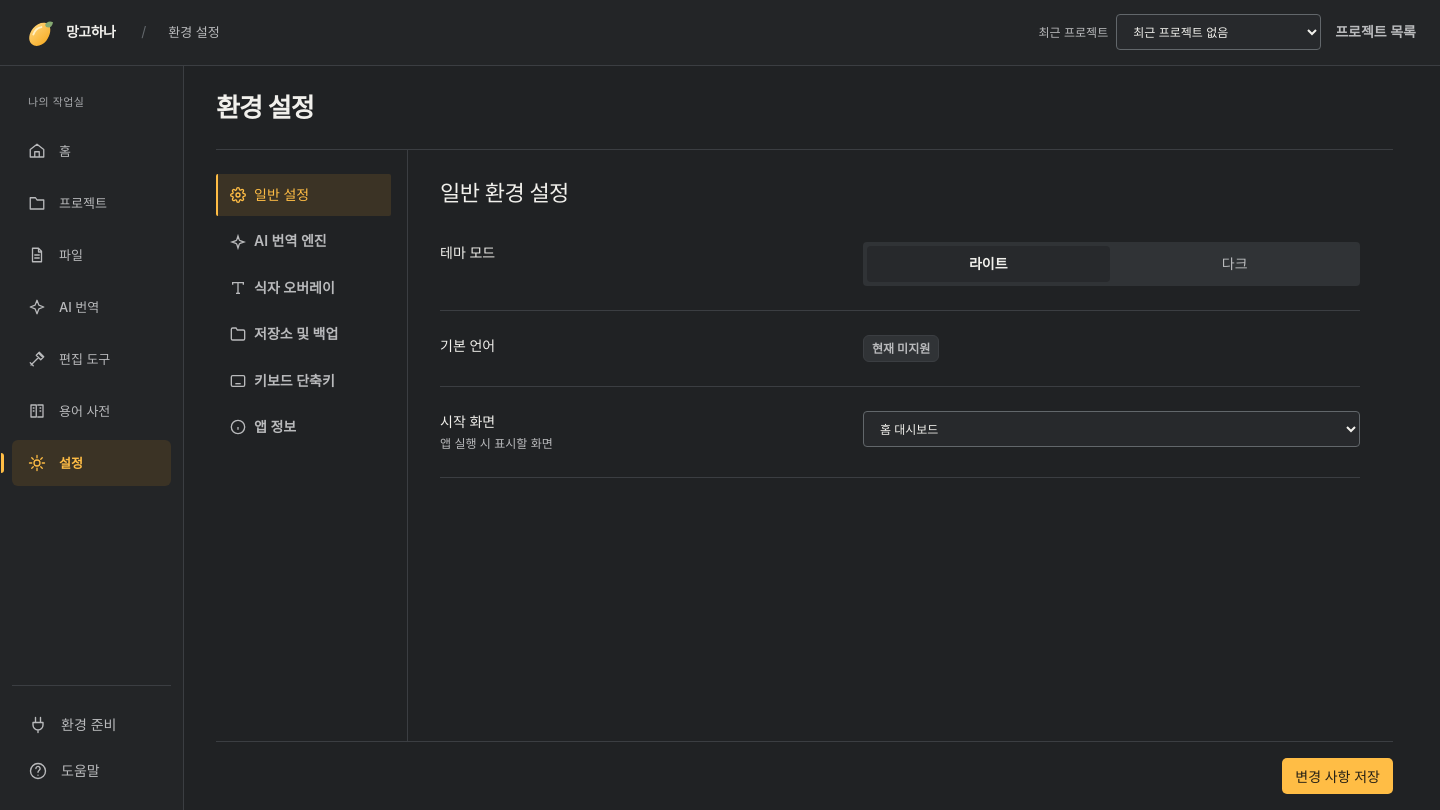
SettingsPage › shows warning toast when updateProviderSettings rejects
The width and height of the screenshot is (1440, 810).
Click the button with aria-label "설정 저장". click: [1338, 776]
box: [1282,758,1393,794]
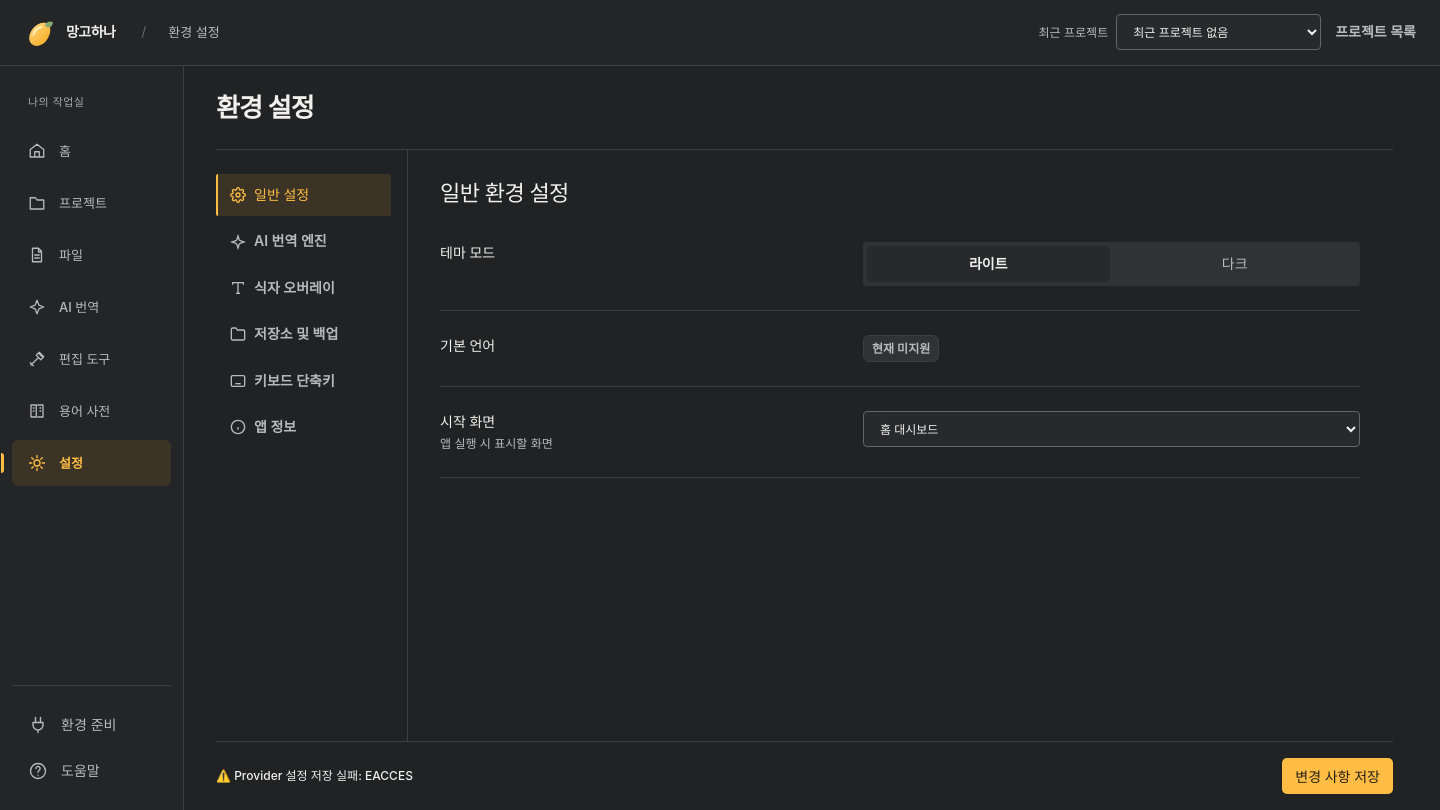
Result: the text "⚠️ Provider 설정 저장 실패: EACCES" is shown at [216,768,413,783]
